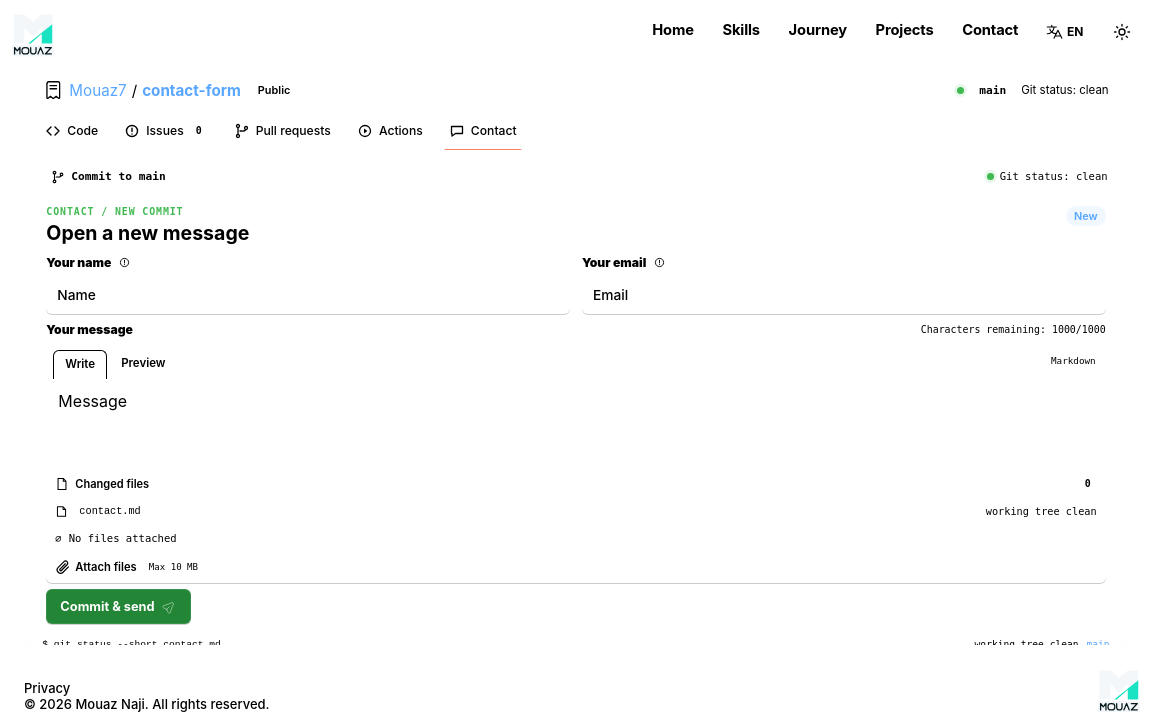
Test: contact page form › moves validation focus through email and message errors
The image size is (1152, 720).
Later steps or results of the test are not shown.
Step 1. Type "Mouaz Test" into the field with id "contact-mobile-name" → (308, 295), box top-left (46, 277), bottom-right (570, 314)
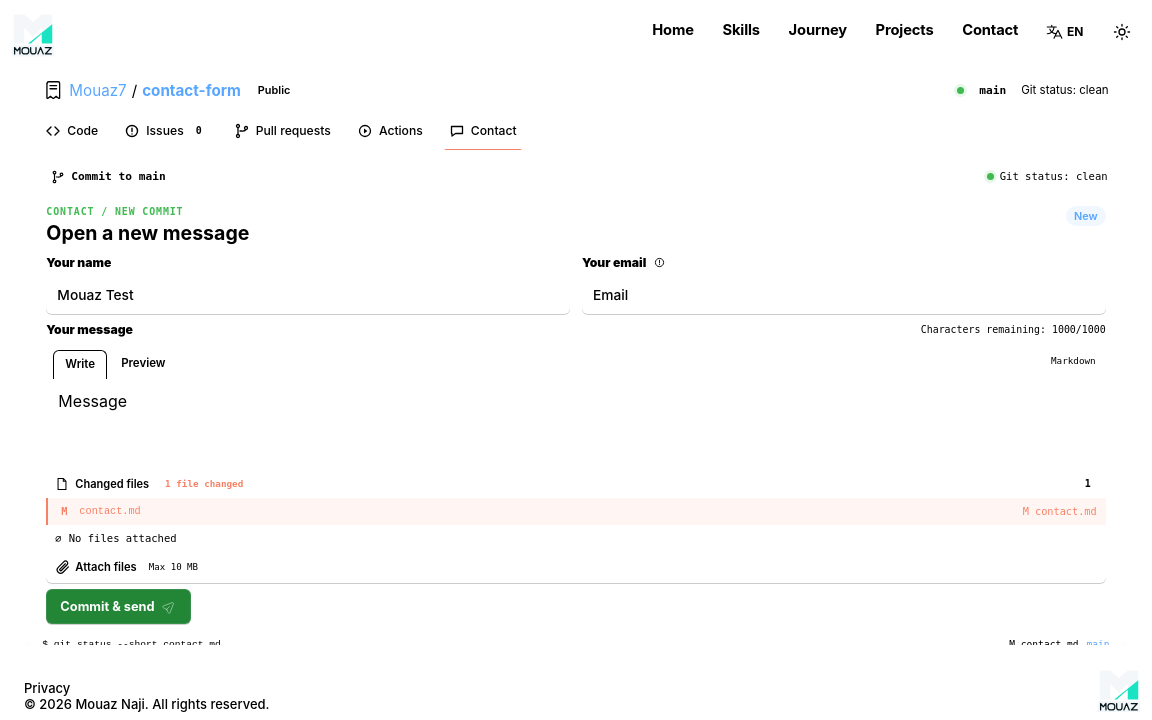
Step 2. Submit the form named "Contact form"
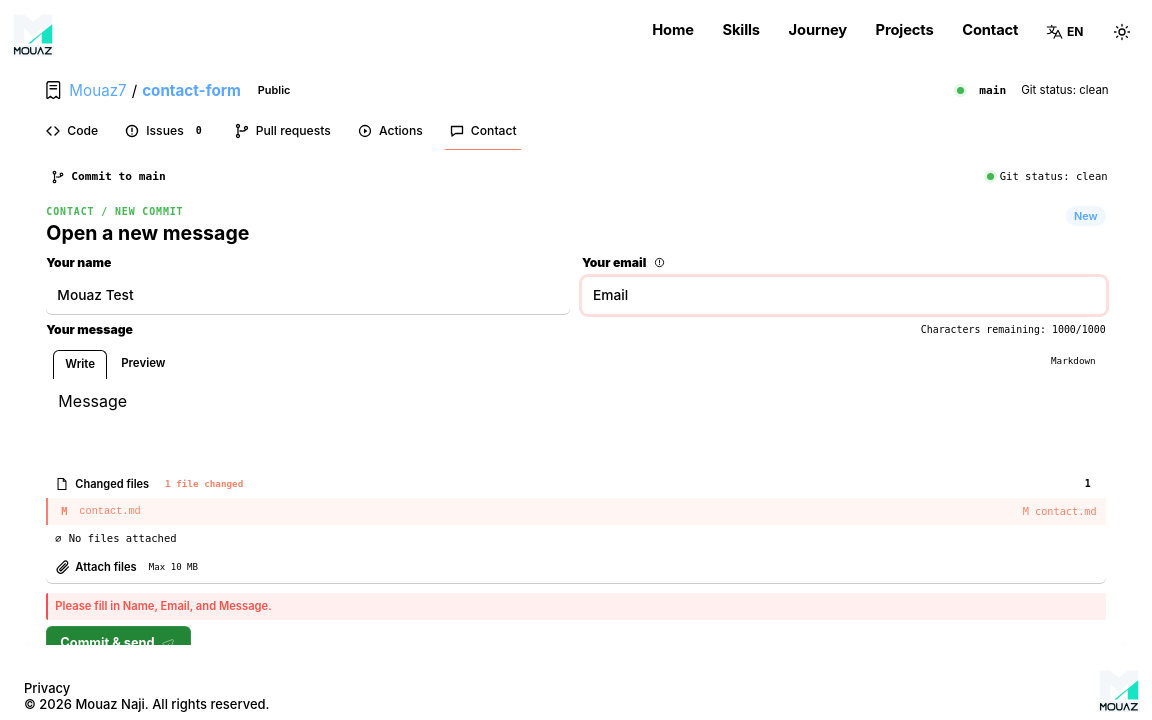
Step 3. Type "invalid-email" into the field with id "contact-mobile-email" → (844, 295), box top-left (582, 277), bottom-right (1106, 314)
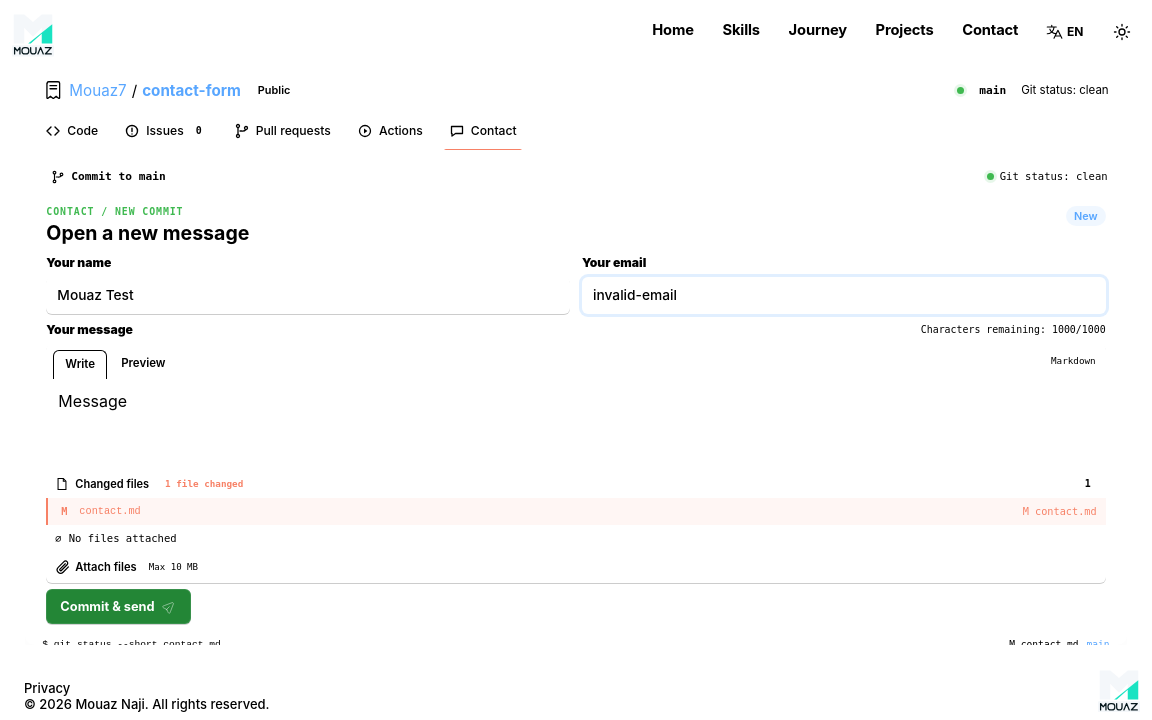
Step 4. Type "Validation message" into the text box with id "contact-mobile-message" → (576, 424), box top-left (46, 378), bottom-right (1106, 470)
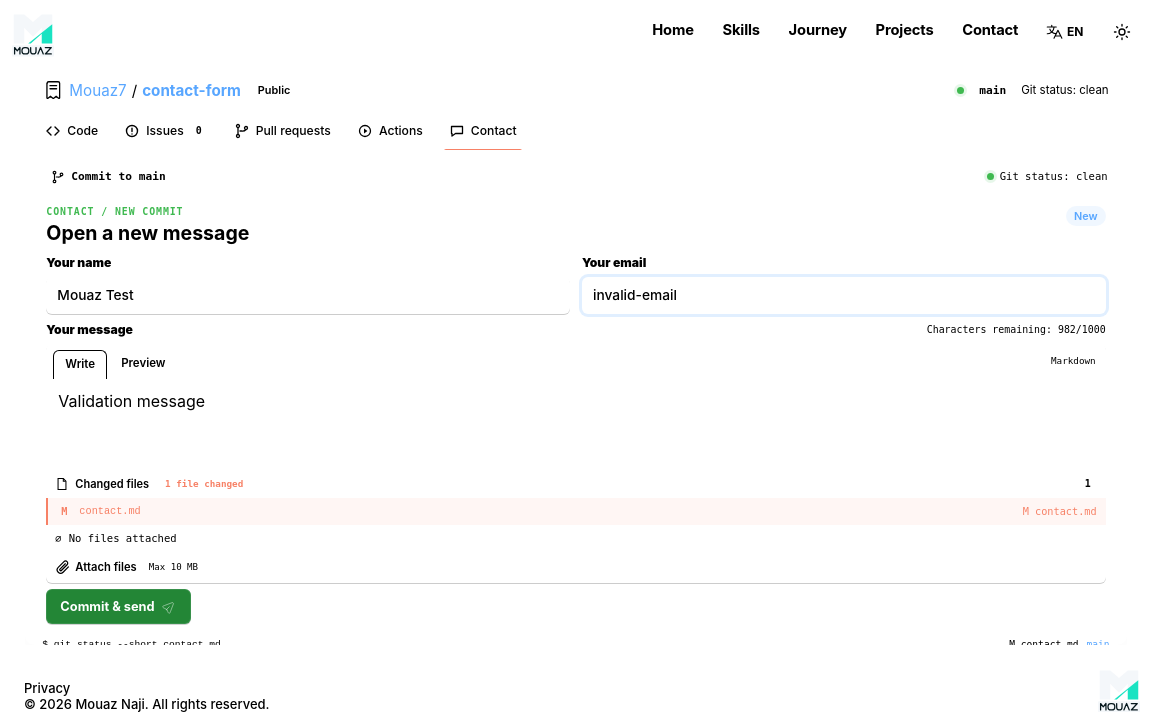
Step 5. Submit the form named "Contact form"
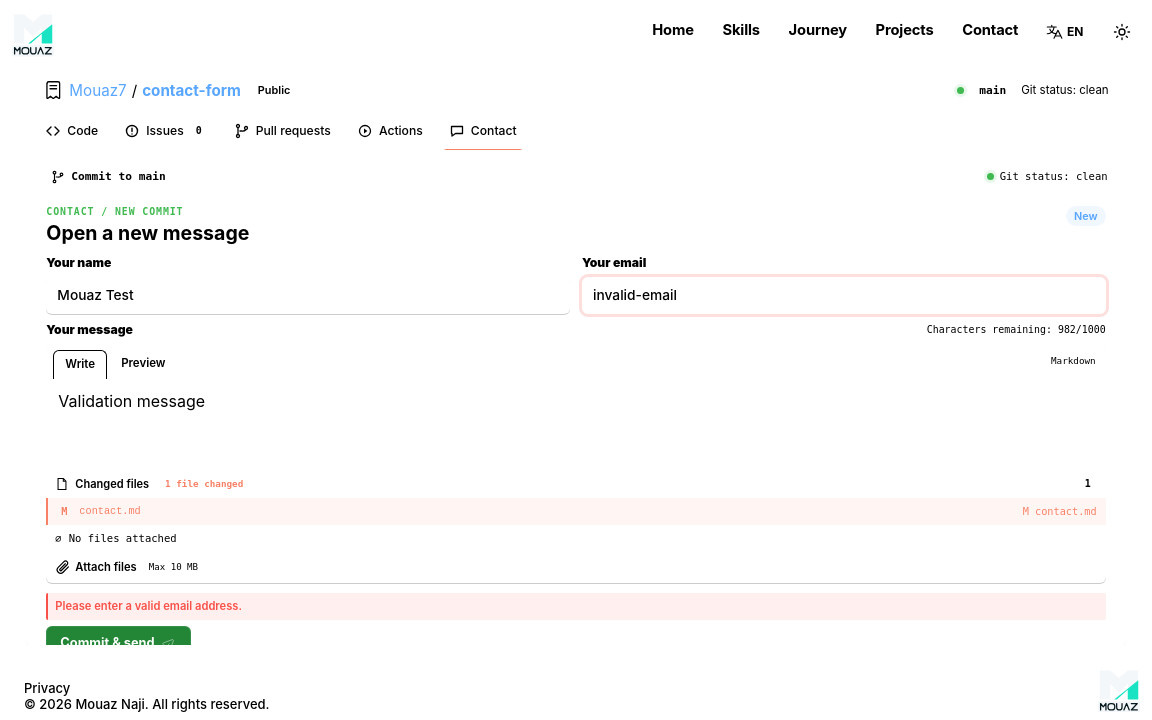
Expected: the text "Please enter a valid email address." is shown, top-left (46, 593), bottom-right (1106, 620)
